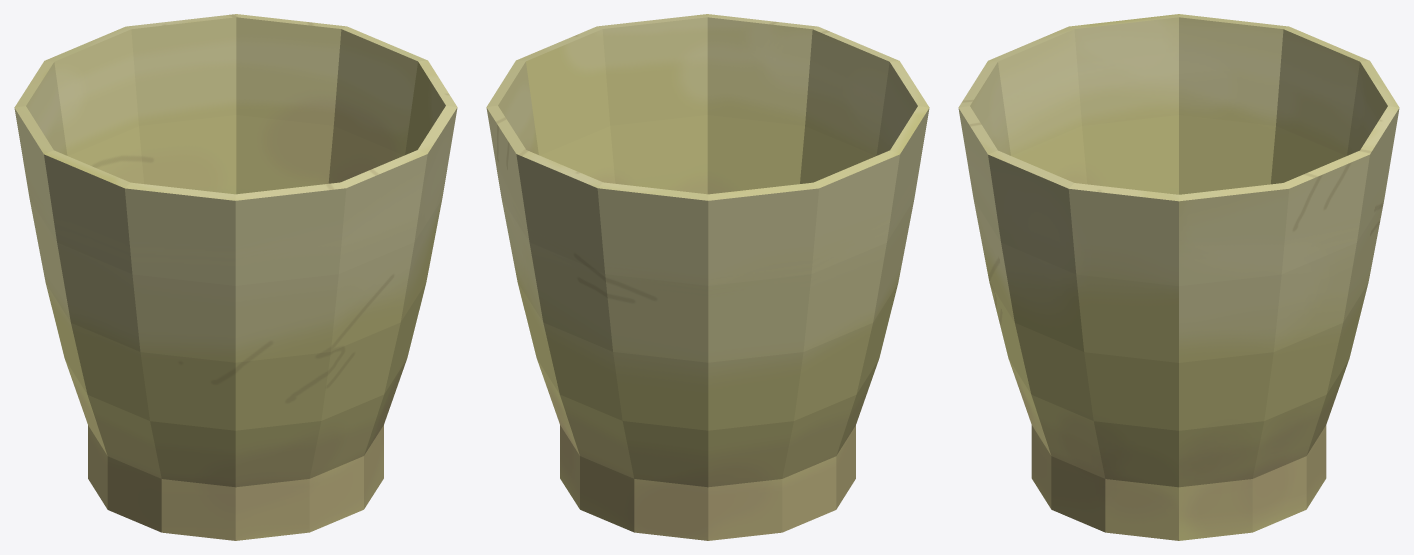
The model's file is trashcan.fbx.
3 views of the same model, side by side, from view 1: azimuth 30°, elevation 25°; view 2: azimuth 150°, elevation 25°; view 3: azimuth 270°, elevation 25° (orthographic).
Visible parts, largest first — view 1: trash can; view 2: trash can; view 3: trash can.
Part boxes in pixels (x1,y1,x2,y2): trash can: (14, 14, 457, 540); trash can: (486, 14, 929, 540); trash can: (958, 14, 1399, 540).
Bounding box in the file's own units: 152 × 141 × 151.
